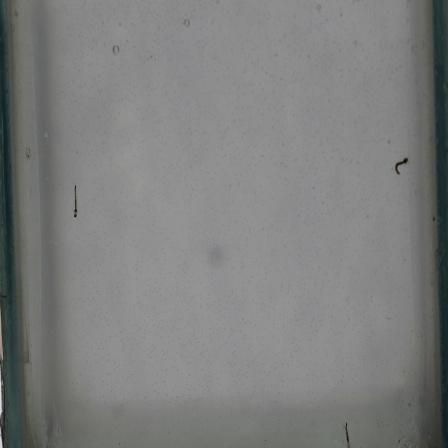Jentik-Nyamuk: (69, 182, 82, 222), (392, 154, 412, 180), (340, 418, 352, 448)
